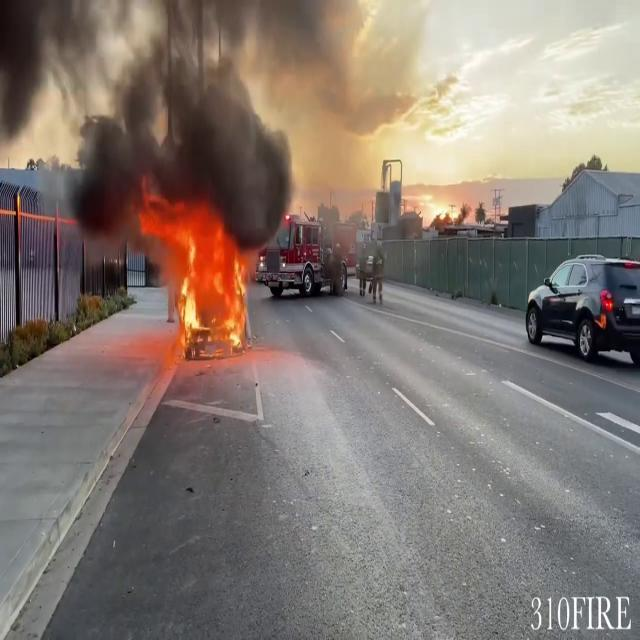Fire: (144, 205, 252, 347)
Smoke: (0, 0, 310, 233)
